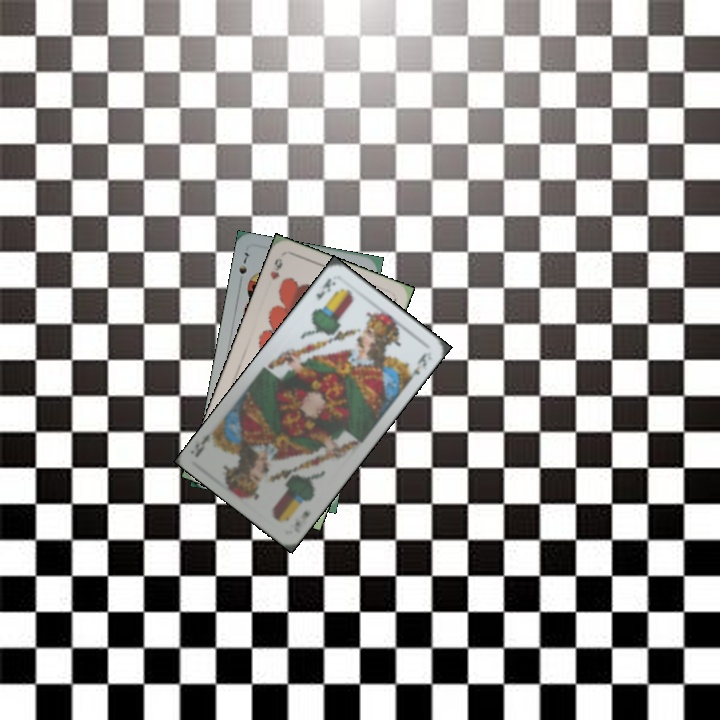EK: (311, 274, 338, 304), (290, 506, 312, 535)
H9: (266, 254, 285, 283)
S7: (235, 248, 252, 287)
